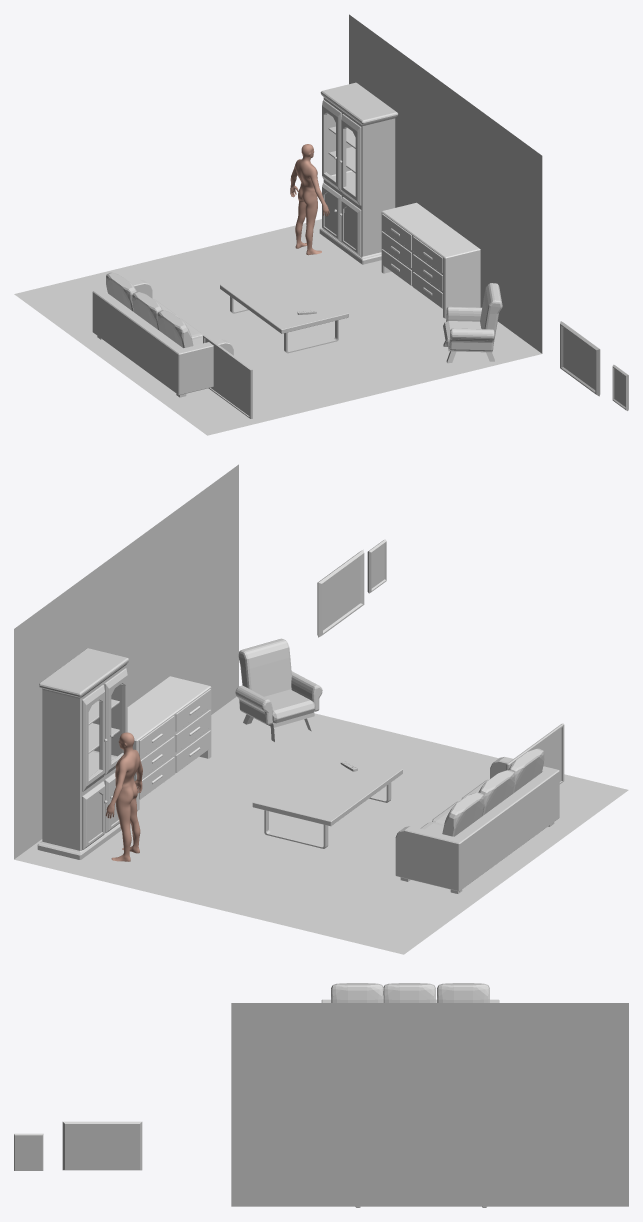
The picture shows the model from 3 angles, top to bottom: view 1: azimuth 30°, elevation 25°; view 2: azimuth 150°, elevation 25°; view 3: azimuth 270°, elevation 25°; orthographic projection. The views are drawn at different scales.
Parts seen in each view (by area): view 1: Cube.009, Cube.012, Cube.019, Cube.002, Cube, Cube.036, HumanBody:humanBody, Cube.005, Cube.030, Cube.016, Cube.062, Cube.022 (+5 smaller); view 2: Cube.009, Cube.012, Cube.019, Cube.002, Cube.036, Cube, Cube.030, HumanBody:humanBody, Cube.062, Cube.013, Cube.016, Cube.005 (+8 smaller); view 3: Cube.009, Cube.030, Cube.031, Cube.020, Cube.021, Cube.023.
Part boxes in pixels (box(x1,y1,x2,y2)): Cube.009: box(14, 14, 542, 435); Cube.012: box(319, 82, 397, 264); Cube.019: box(92, 279, 233, 397); Cube.002: box(220, 268, 348, 353); Cube: box(381, 202, 480, 318); Cube.036: box(443, 283, 502, 363); HumanBody:humanBody: box(290, 144, 329, 255); Cube.005: box(203, 335, 252, 418); Cube.030: box(560, 321, 600, 396); Cube.016: box(339, 114, 361, 205); Cube.062: box(322, 100, 341, 191); Cube.022: box(339, 197, 361, 255); Cube.009: box(14, 464, 628, 954); Cube.012: box(37, 648, 130, 859); Cube.019: box(395, 757, 559, 893); Cube.002: box(252, 750, 402, 848); Cube.036: box(235, 638, 322, 742); Cube: box(127, 676, 211, 810); Cube.030: box(317, 550, 364, 637); HumanBody:humanBody: box(105, 732, 142, 861); Cube.062: box(82, 685, 107, 791); Cube.013: box(82, 781, 107, 849); Cube.016: box(104, 668, 127, 775); Cube.005: box(506, 723, 564, 784); Cube.009: box(231, 1003, 628, 1206); Cube.030: box(62, 1121, 142, 1170); Cube.031: box(14, 1133, 43, 1170); Cube.020: box(437, 983, 489, 1002); Cube.021: box(331, 983, 383, 1002); Cube.023: box(383, 983, 435, 1002).
Bounding box in the file's own units: 601 × 366 × 929.
